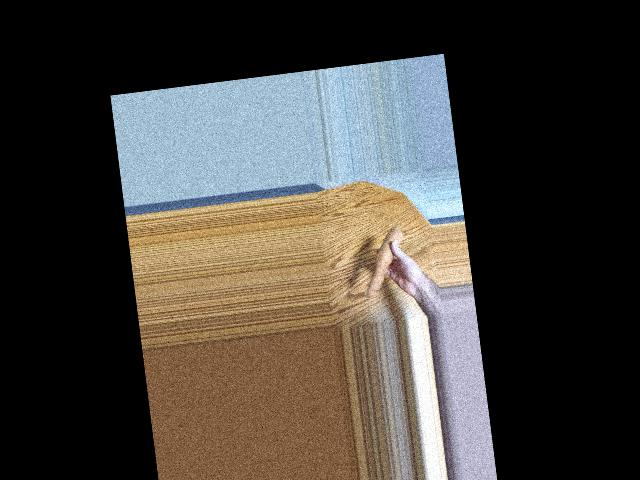sweet_potato: (362, 218, 407, 297)
